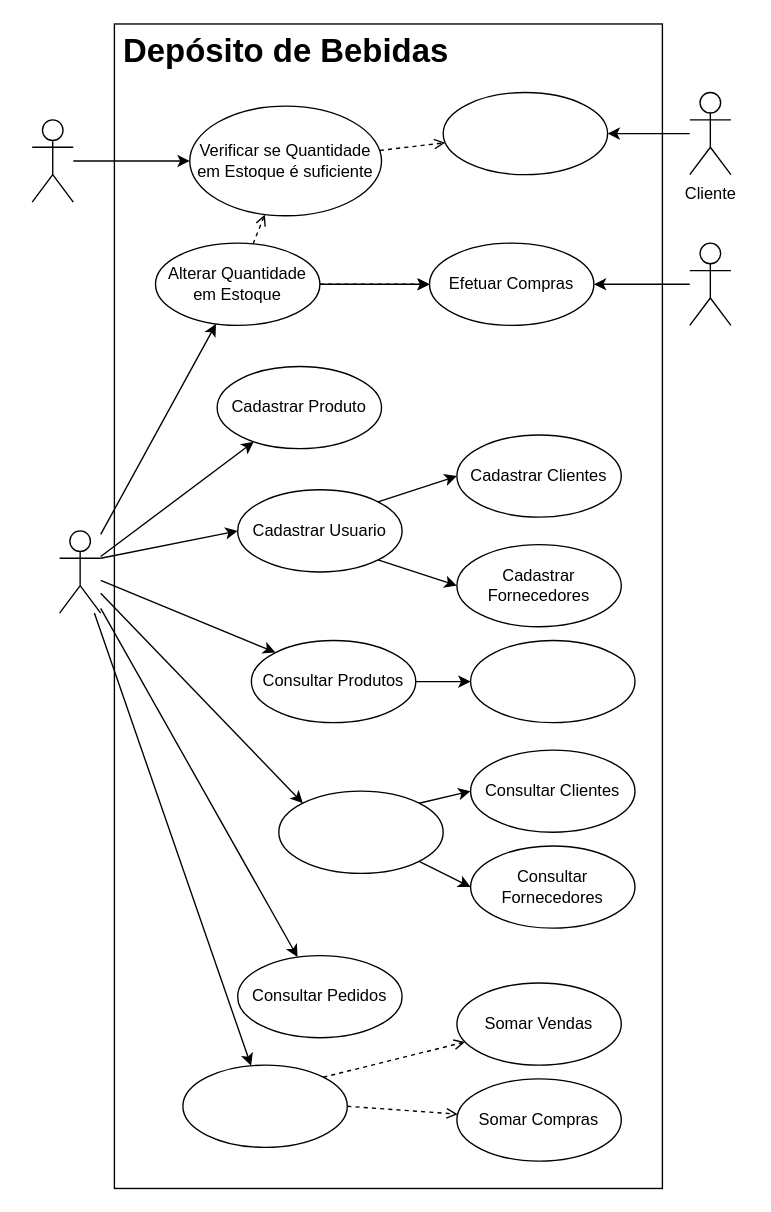
Some shapes in this 771 by 1212 pixel diagram are drawn without their labels. The centre of each missing label's shape, as x and y in pixels:
Consultar Estoque: [552,681]
Consultar Usuários: [360,831]
Efetuar Vendas: [525,133]
Fechar Caixa do Dia: [264,1105]
Forncedor: [709,283]
Funcionário: [79,571]
Sistema: [52,160]
